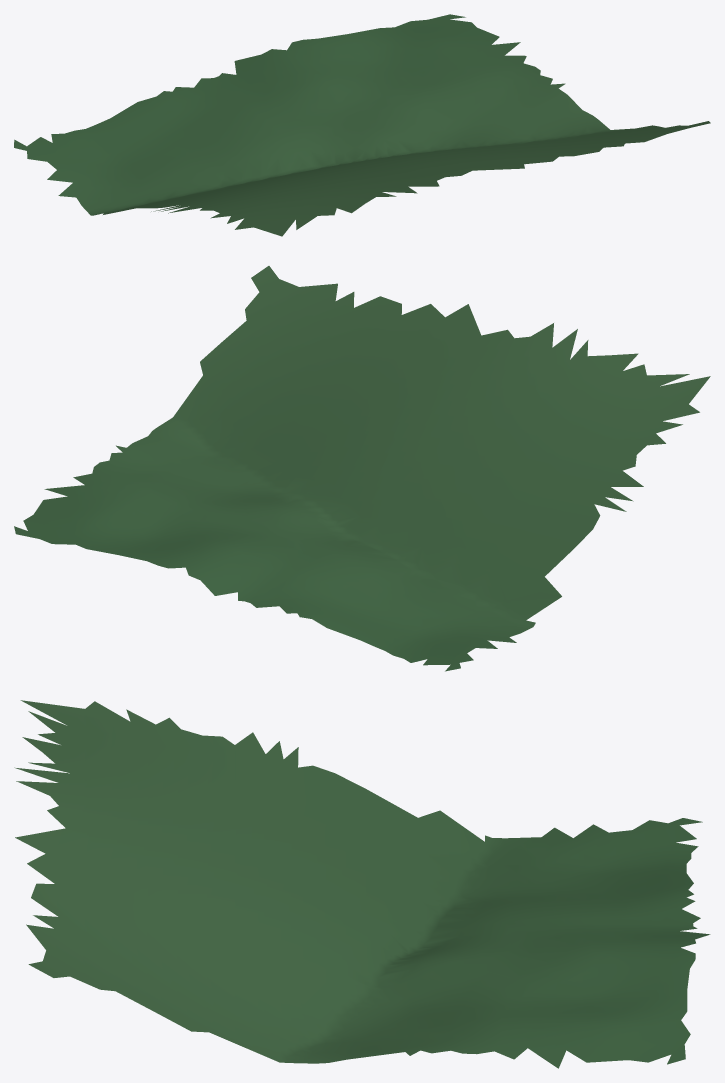
Rendered from payo_land_x2_y9.glb.
3 renders of one model, top to bottom at view 1: azimuth 30°, elevation 25°; view 2: azimuth 150°, elevation 25°; view 3: azimuth 270°, elevation 25°, orthographic. The views are drawn at different scales.
Parts seen in each view (by area): view 1: payo_land_x2_y9; view 2: payo_land_x2_y9; view 3: payo_land_x2_y9.
Boxes of the visible parts, box(x1,y1,x2,y2) form: payo_land_x2_y9: box(14, 14, 710, 236); payo_land_x2_y9: box(14, 266, 710, 671); payo_land_x2_y9: box(14, 700, 710, 1068).
Bounding box in the file's own units: 278 × 69.76 × 275.
